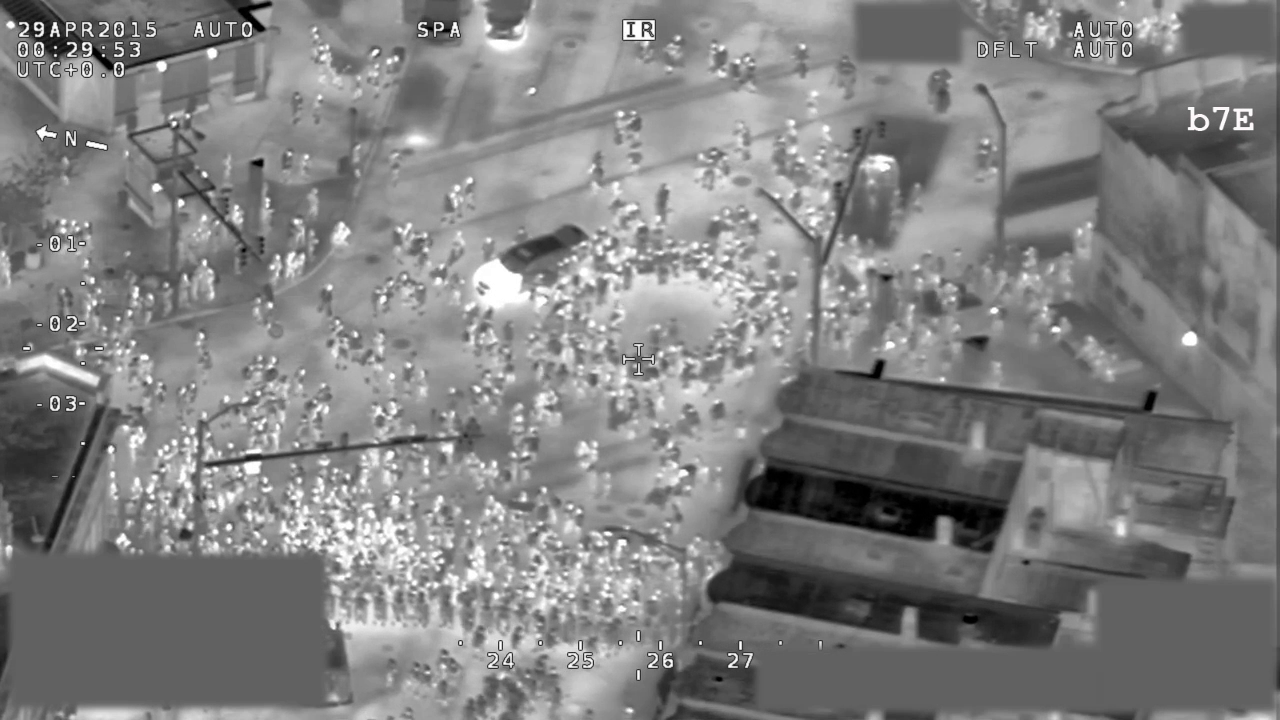vehicle: (467, 218, 595, 315)
